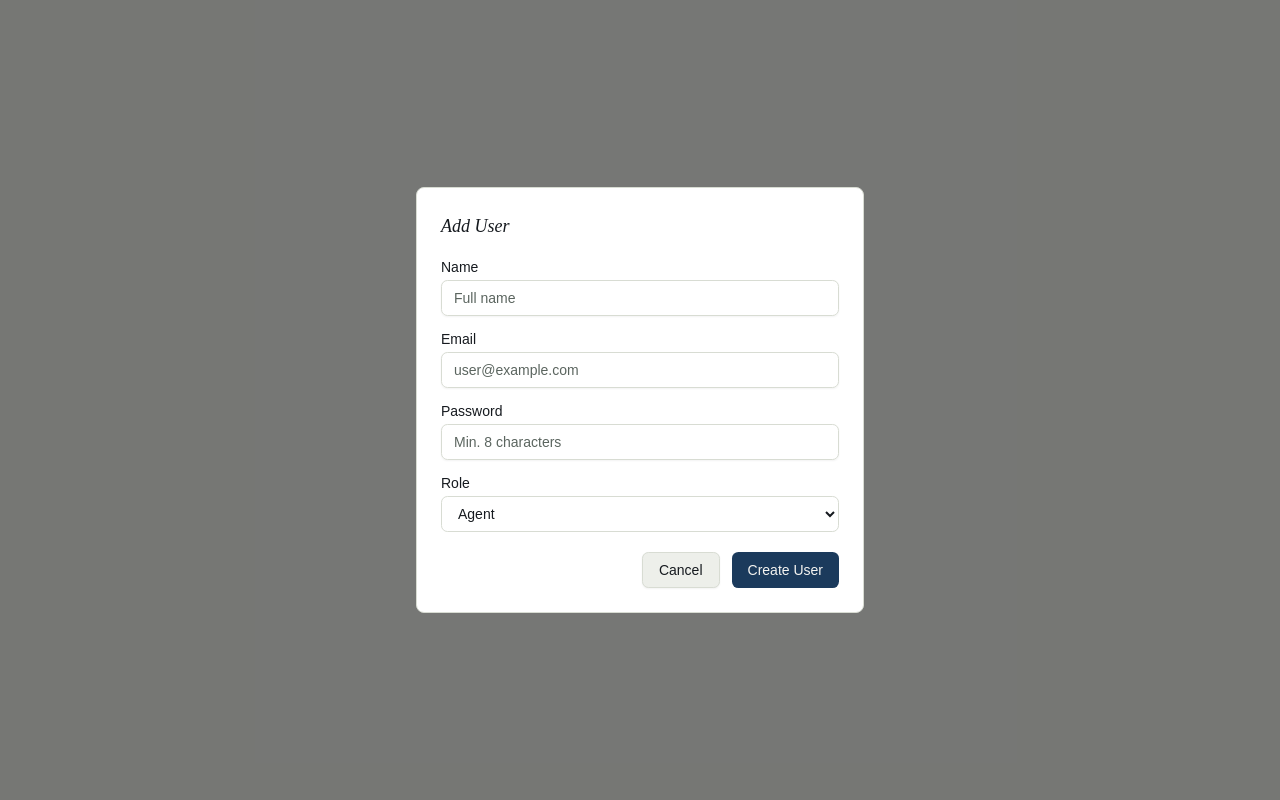
Test case: CreateUserModal › shows error for invalid email format
Type "notanemail" into the field labelled "Email" at (640, 370), box [441,352,839,388]
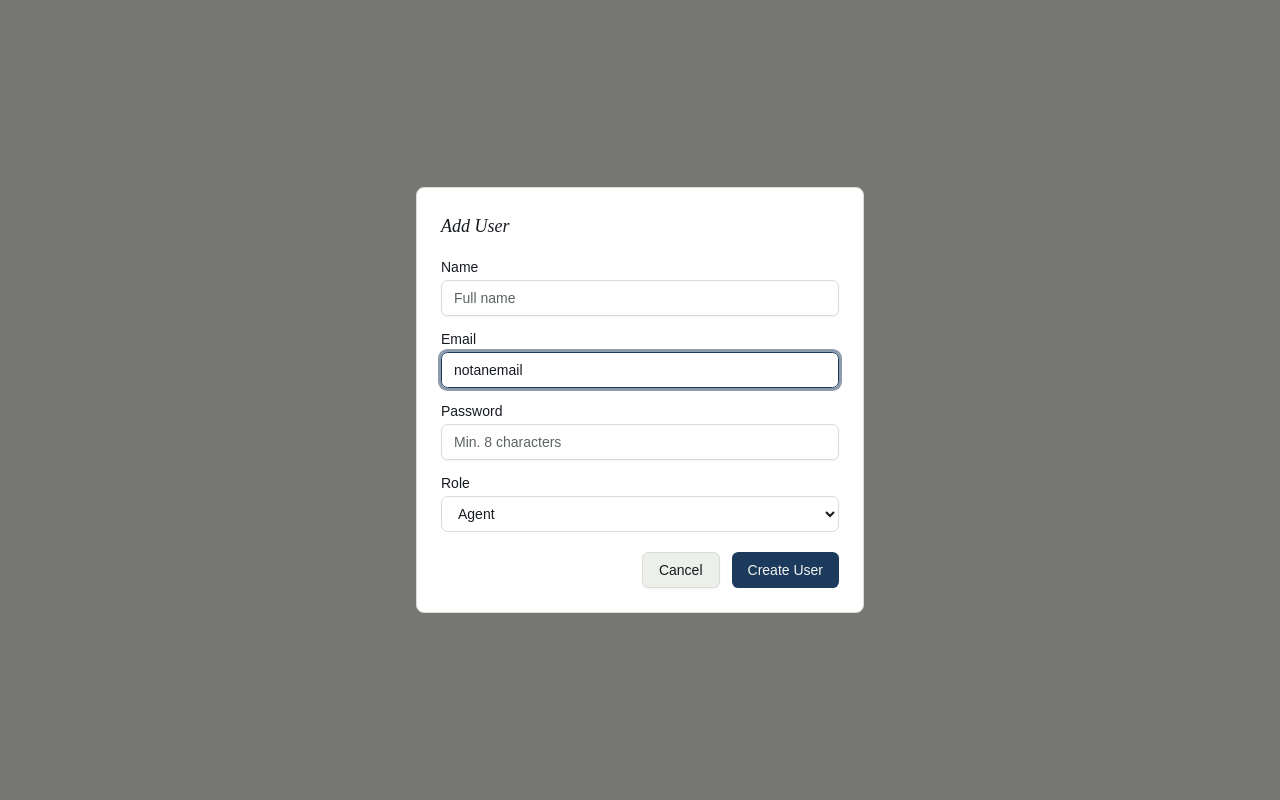
Click the button "Create User" at (785, 570), box [732,552,839,588]
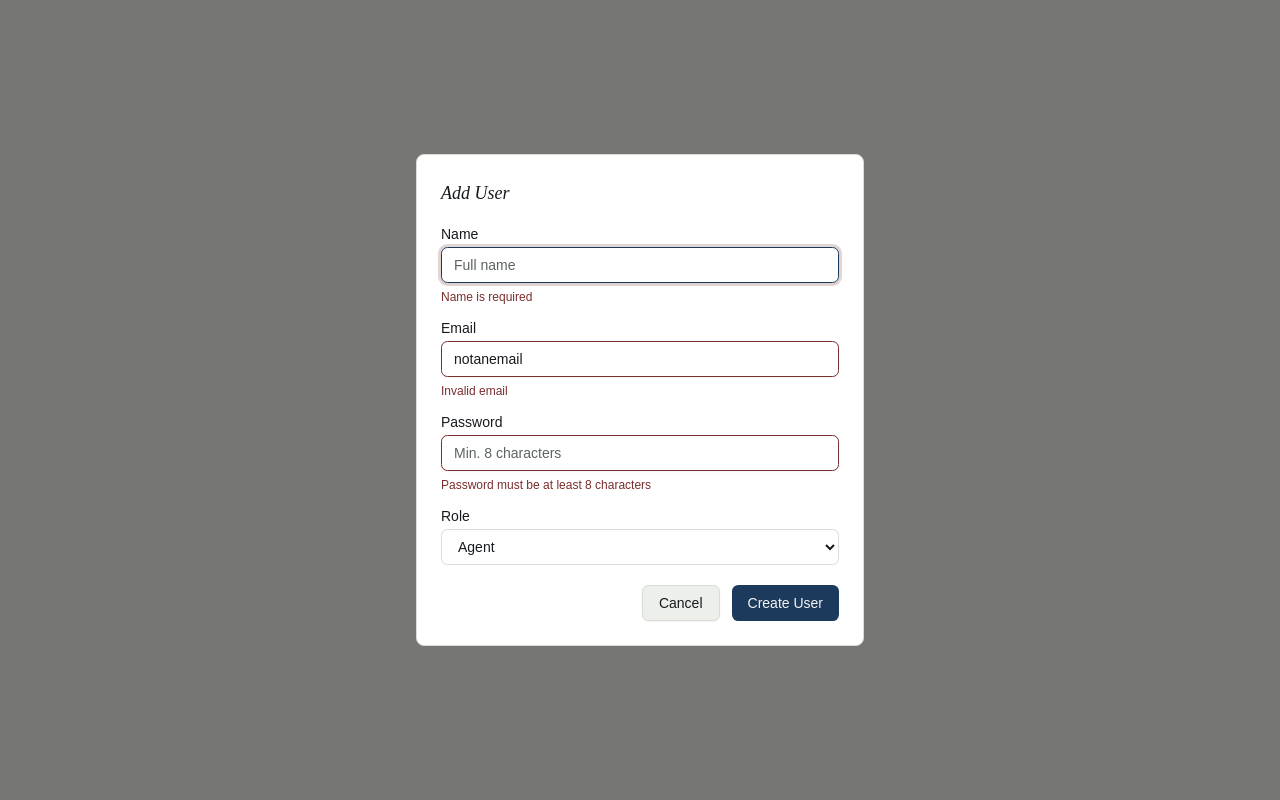
Expected: the text "Invalid email" is shown, [441,384,508,398]
